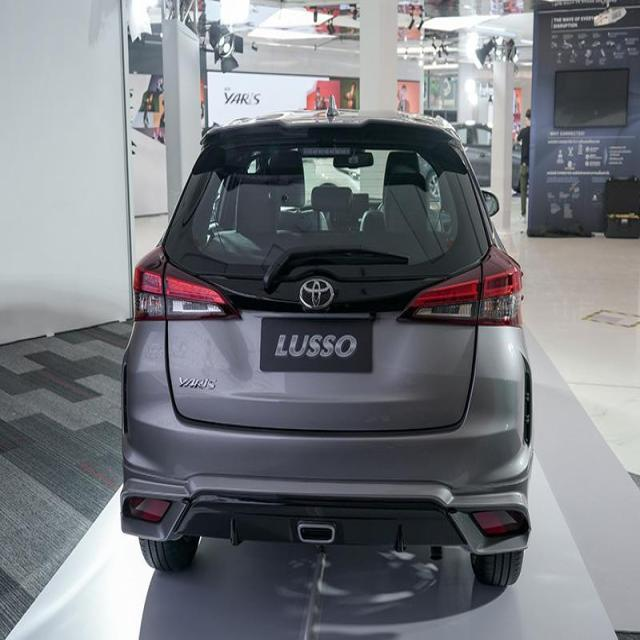Hatchback: (122, 107, 532, 593)
